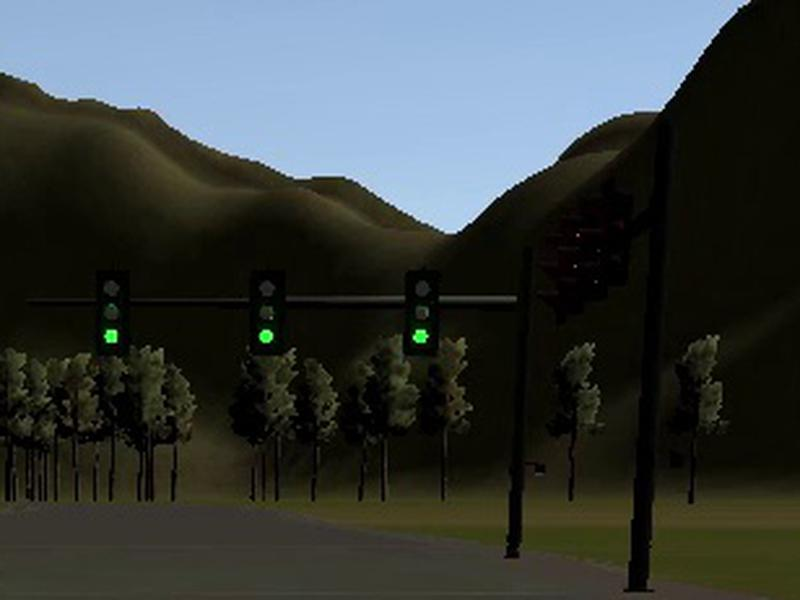Green: (403, 269, 442, 355), (93, 271, 129, 357), (249, 271, 284, 355)
